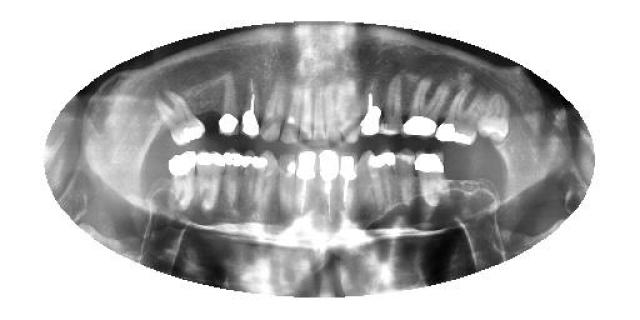Fillings: (154, 90, 206, 145), (438, 87, 487, 145), (402, 78, 448, 138), (415, 152, 446, 208), (196, 150, 222, 215), (168, 152, 194, 212), (258, 150, 276, 220), (375, 146, 395, 209), (218, 79, 240, 136), (222, 147, 240, 215), (242, 152, 258, 222)
Implant: (316, 148, 338, 224), (335, 148, 356, 222), (295, 148, 316, 222), (359, 72, 381, 138), (240, 80, 260, 139)
